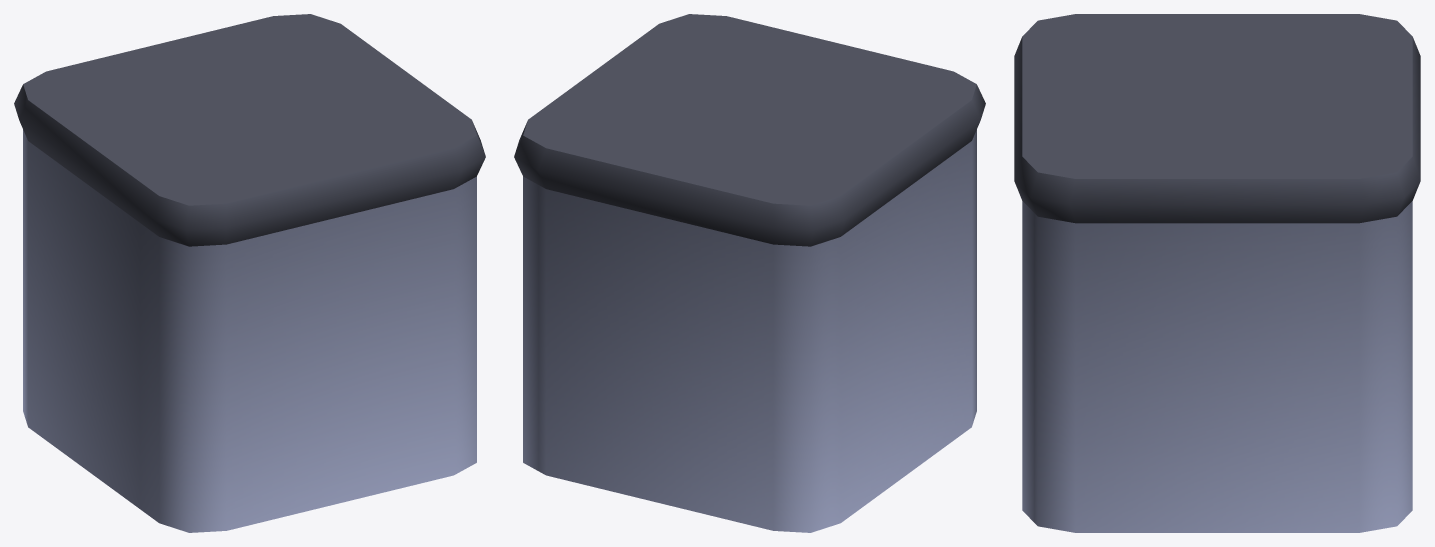
File: block-snow-large-tall.glb
3 renders of one model, left to right at view 1: azimuth 30°, elevation 25°; view 2: azimuth 150°, elevation 25°; view 3: azimuth 270°, elevation 25°, orthographic. The views are drawn at different scales.
Parts seen in each view (by area): view 1: block-snow-large-tall; view 2: block-snow-large-tall; view 3: block-snow-large-tall.
Boxes of the visible parts, bbox=[...] form: block-snow-large-tall: bbox=[14, 14, 485, 532]; block-snow-large-tall: bbox=[514, 14, 985, 532]; block-snow-large-tall: bbox=[1014, 14, 1420, 532].
Size of the model in its own units: 2.08 by 2 by 2.08.
